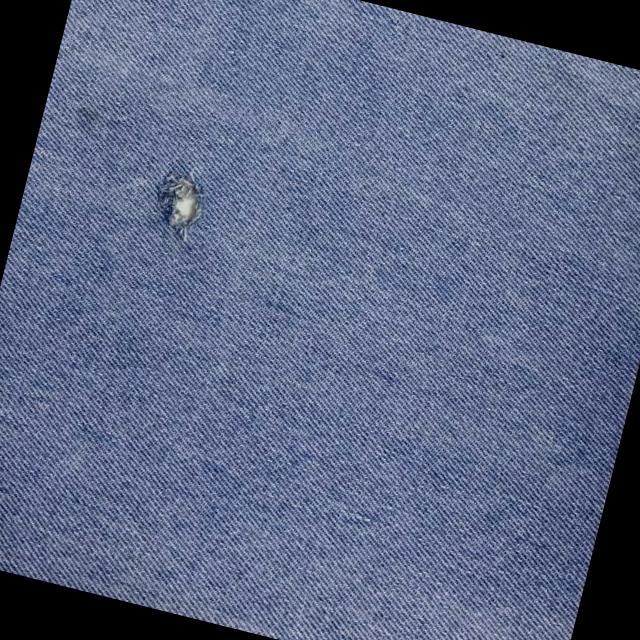hole: (138, 162, 220, 248)
